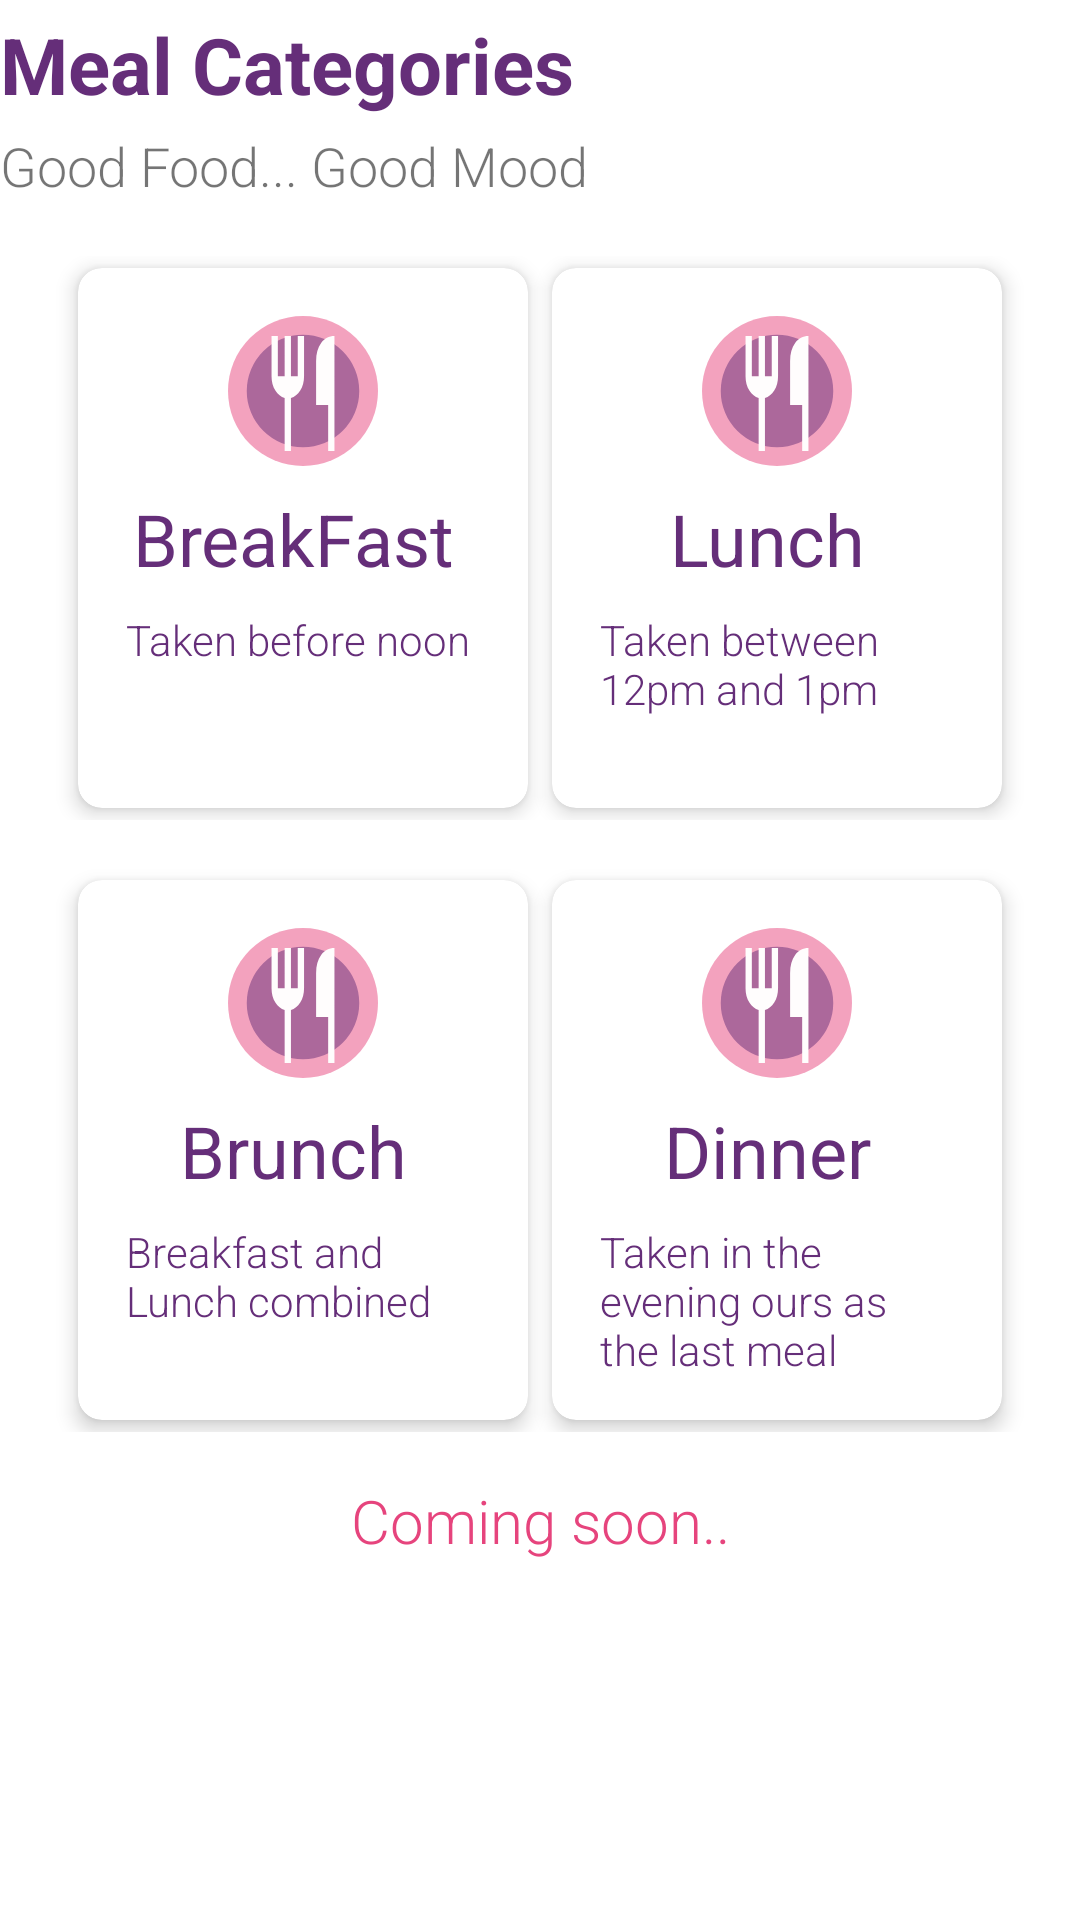

Point at icon controls on the screen. Image size 1080w x 1920h, points as (x,y).
dish: (303,391), (777,391), (303,1003), (777,1003)
